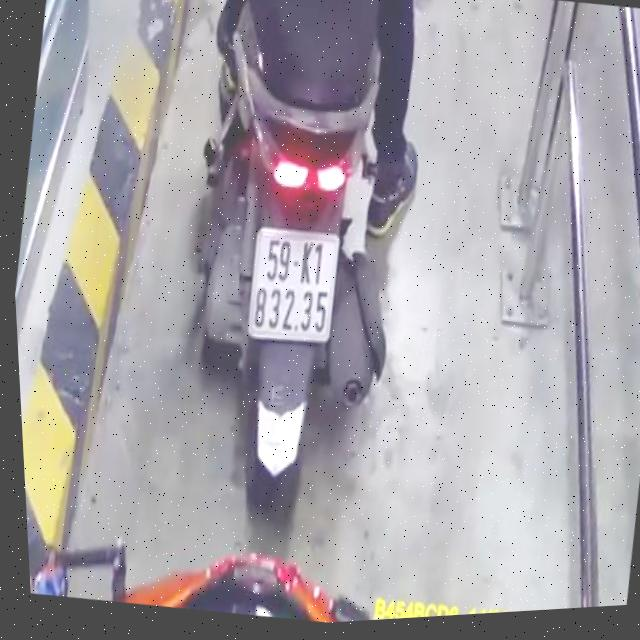motorcycle: (122, 0, 452, 547)
plate: (236, 215, 353, 357)
